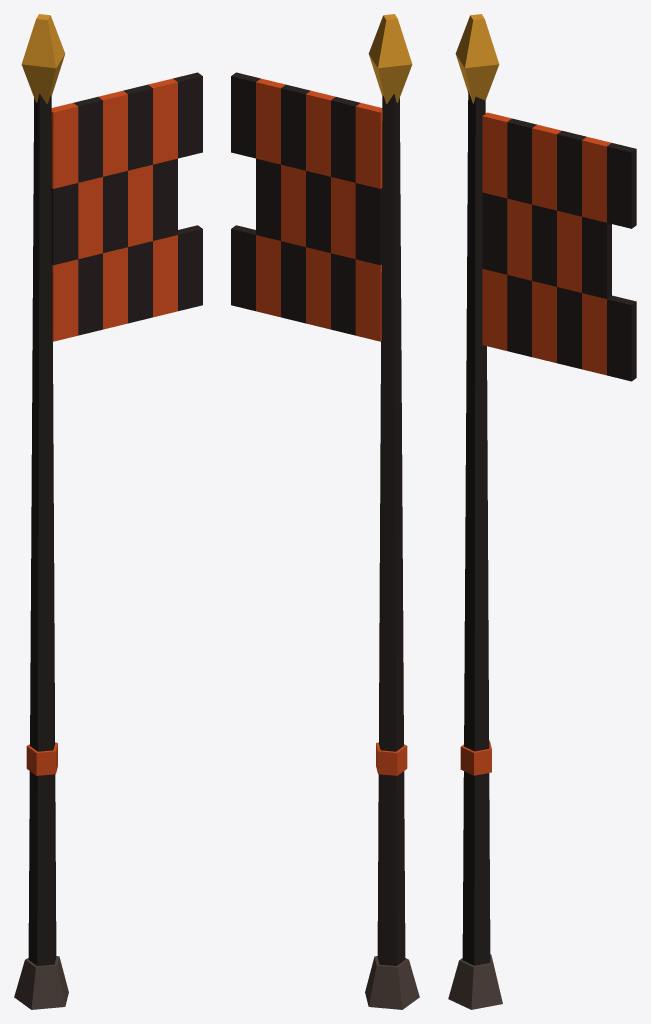
Rendered from flag.glb.
3 views of the same model, side by side, from view 1: azimuth 30°, elevation 25°; view 2: azimuth 150°, elevation 25°; view 3: azimuth 330°, elevation 25° (orthographic).
Parts seen in each view (by area): view 1: volcano-flag; view 2: volcano-flag; view 3: volcano-flag.
Part boxes in pixels (bbox=[...]): volcano-flag: bbox=[14, 14, 202, 1009]; volcano-flag: bbox=[231, 14, 419, 1009]; volcano-flag: bbox=[448, 14, 636, 1009].
Bounding box in the file's own units: 0.245 × 1.28 × 0.0666.
